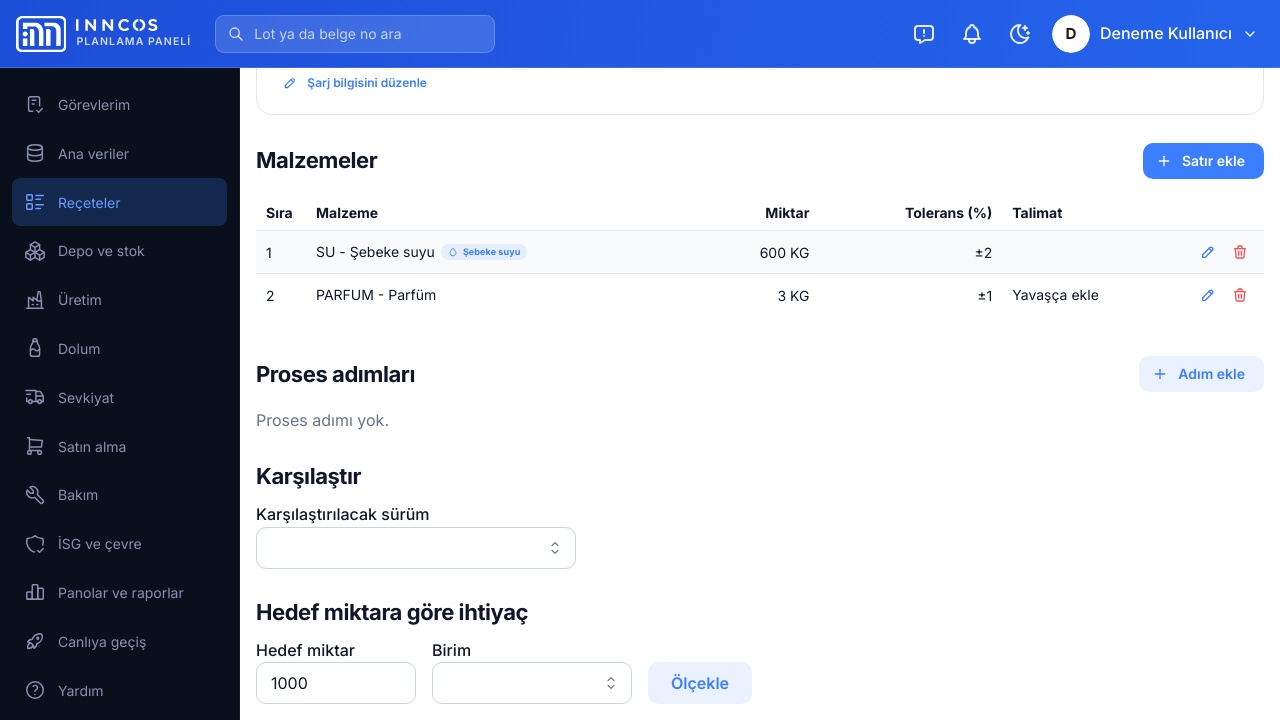
Test: reçete sürümü ekranı › başka sürümle karşılaştırır
This screenshot has width=1280, height=720.
(page scrolled)
Click the field labelled "Karşılaştırılacak sürüm": (416,548) [256, 527, 576, 569]
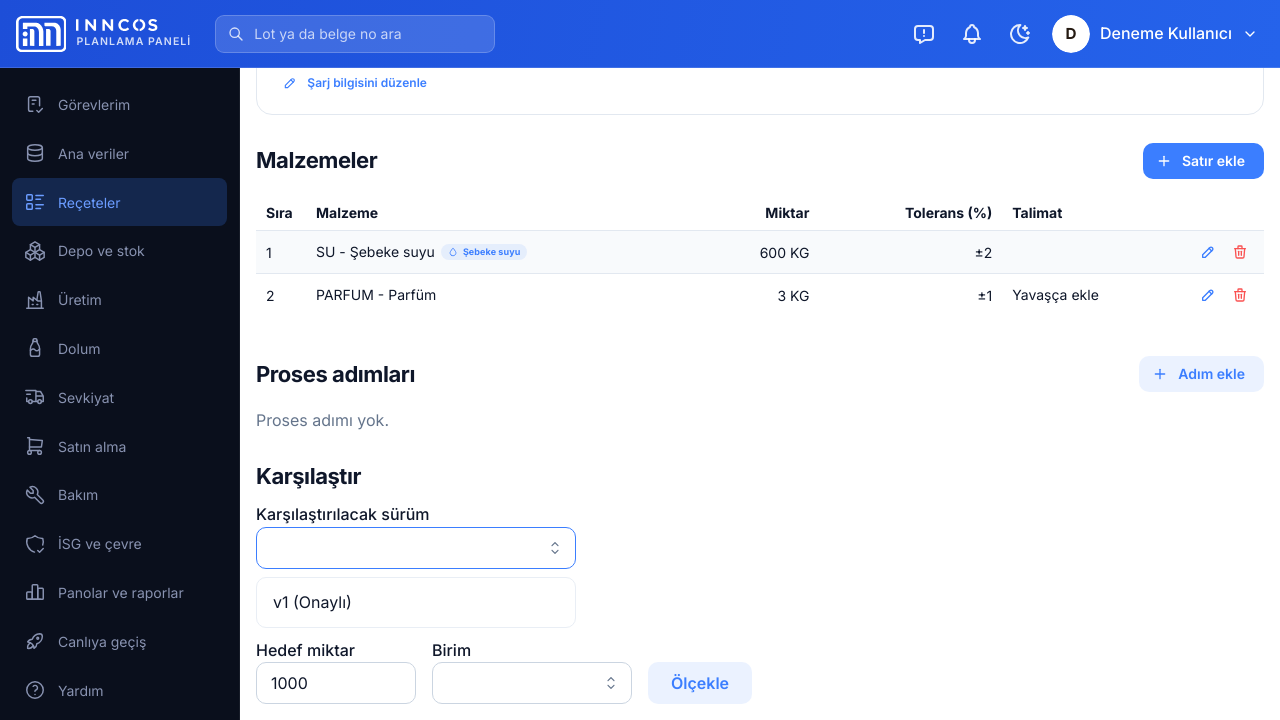
Click the option "v1 (Onaylı)": (312,602) [273, 592, 352, 612]
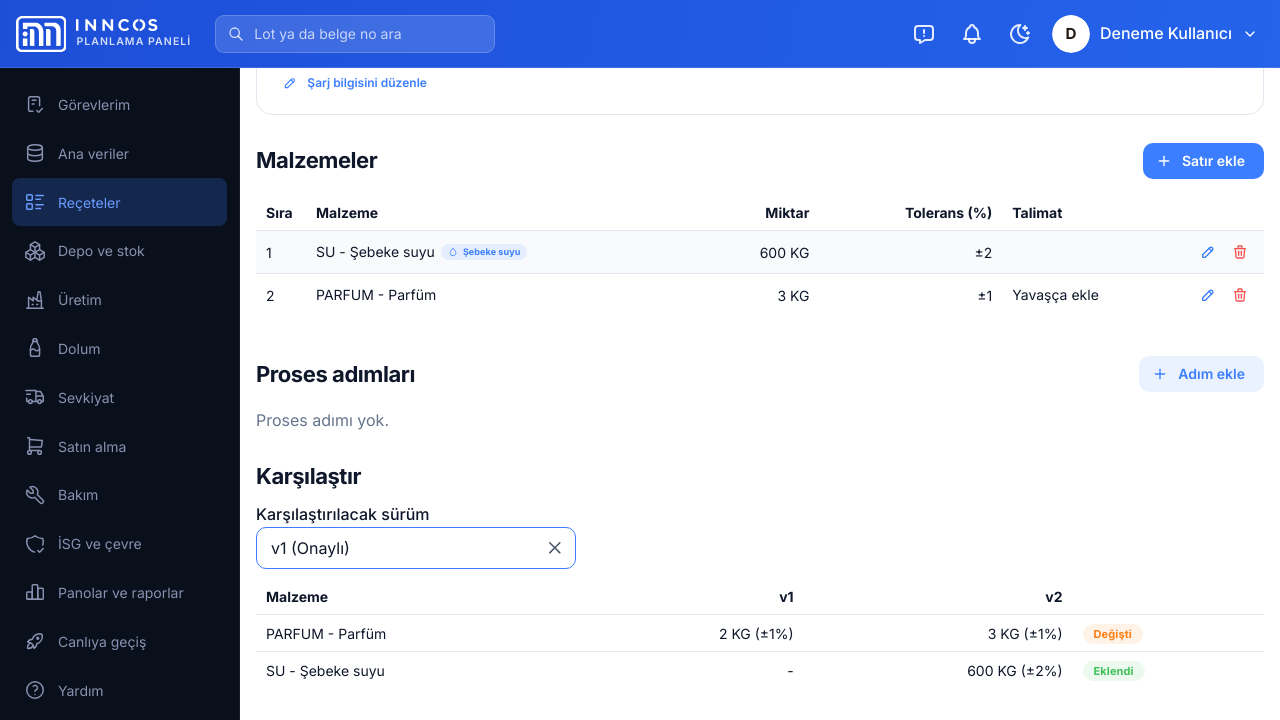
Check: the text "Değişti" is shown, box [1094, 626, 1132, 644]
Check: the text "Eklendi" is shown, box [1094, 662, 1134, 680]
